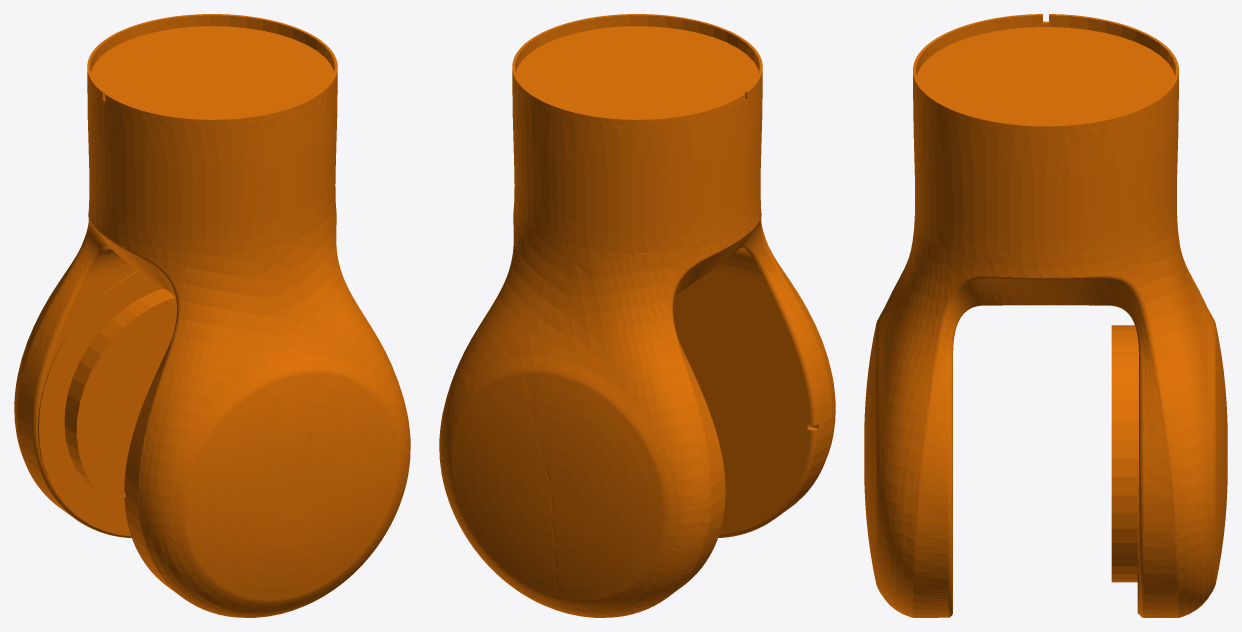
The picture shows the model from 3 angles, left to right: view 1: azimuth 30°, elevation 25°; view 2: azimuth 150°, elevation 25°; view 3: azimuth 270°, elevation 25°; orthographic projection. The views are drawn at different scales.
Parts seen in each view (by area): view 1: Link2; view 2: Link2; view 3: Link2.
Boxes of the visible parts, bbox=[...] form: Link2: bbox=[14, 14, 410, 617]; Link2: bbox=[439, 14, 835, 617]; Link2: bbox=[864, 14, 1227, 617].
Bounding box in the file's own units: 0.1155 × 0.2053 × 0.1271.
